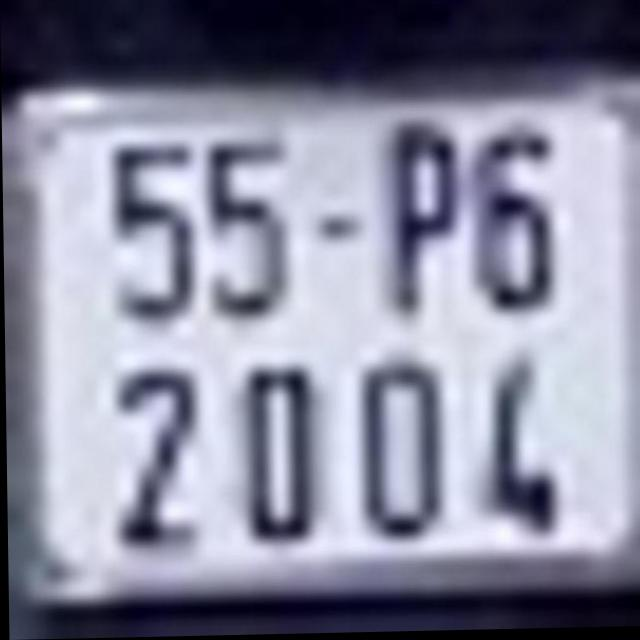0: (360, 361, 443, 540), (241, 367, 317, 544)
2: (113, 369, 194, 548)
4: (489, 357, 556, 539)
5: (206, 139, 290, 323), (112, 141, 193, 321)
6: (470, 132, 553, 309)
P: (393, 122, 455, 318)
